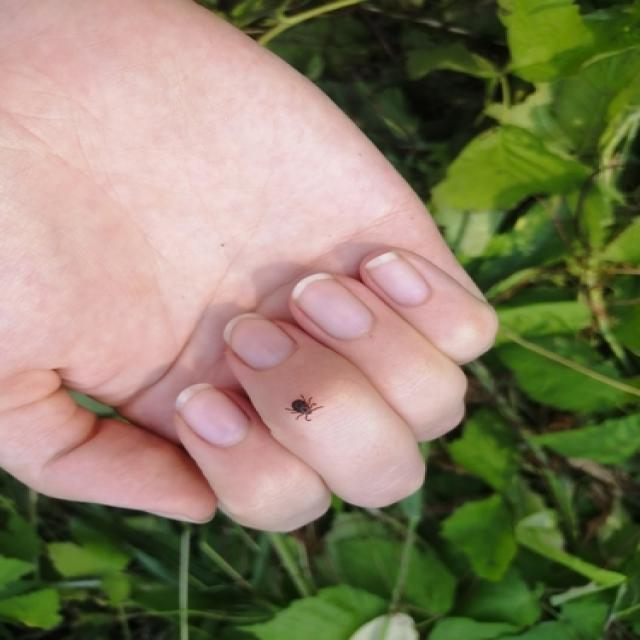Dermacentor Reticulatus-F: (288, 396, 326, 420)
